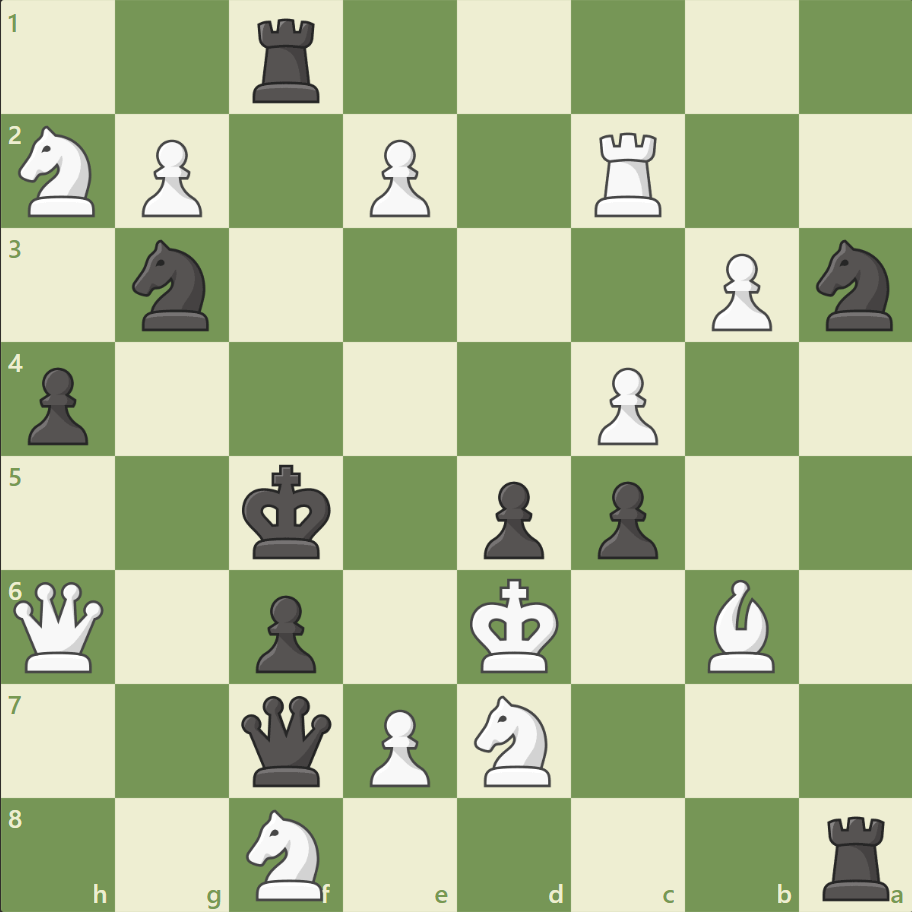B: (698, 574, 782, 676)
K: (465, 571, 565, 679)
N: (465, 688, 562, 791), (238, 802, 335, 904), (11, 121, 108, 223)
P: (701, 246, 776, 337), (133, 132, 208, 223), (361, 700, 435, 791), (588, 359, 662, 450), (361, 132, 435, 223)
Q: (10, 576, 109, 676)
R: (587, 125, 670, 222)
k: (238, 458, 338, 566)
n: (124, 234, 222, 337), (806, 234, 903, 337)
p: (247, 586, 322, 677), (474, 473, 549, 564), (20, 359, 95, 450), (588, 473, 662, 564)
q: (237, 690, 336, 789)
r: (814, 806, 897, 904), (246, 12, 329, 109)
